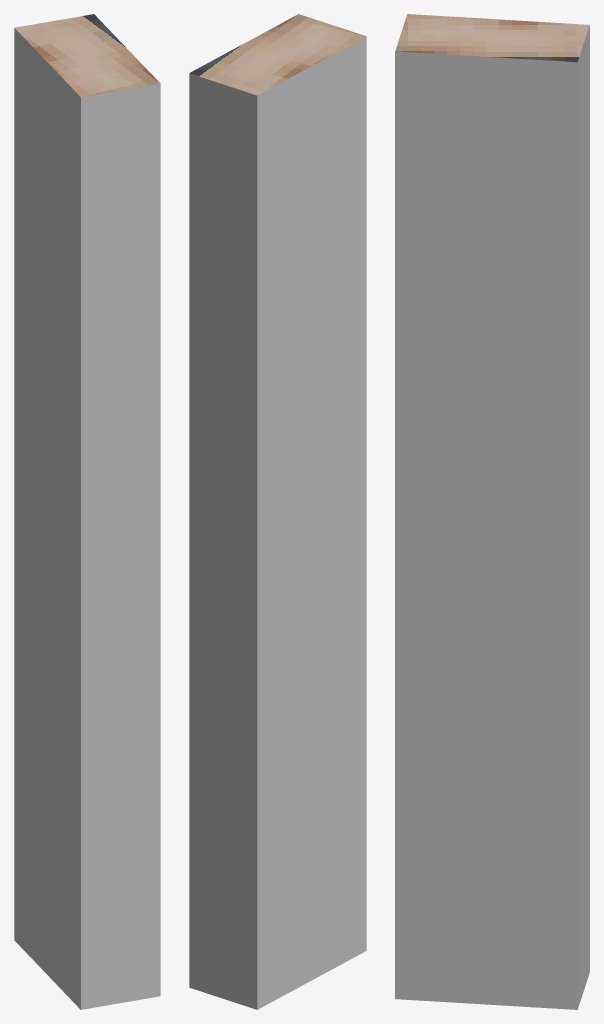
Rendered from DEBW_001000gcR05.gltf.
3 views of the same model, side by side, from view 1: azimuth 30°, elevation 25°; view 2: azimuth 150°, elevation 25°; view 3: azimuth 270°, elevation 25° (orthographic). The views are drawn at different scales.
Parts seen in each view (by area): view 1: Z_UP; view 2: Z_UP; view 3: Z_UP.
Part boxes in pixels (left/top/right/bottom): Z_UP: left=14, top=14, right=160, bottom=1009; Z_UP: left=189, top=14, right=366, bottom=1009; Z_UP: left=395, top=14, right=589, bottom=1009.
Size of the model in its own units: 1.69 by 15.47 by 2.88.
2 materials, 1 textured.
